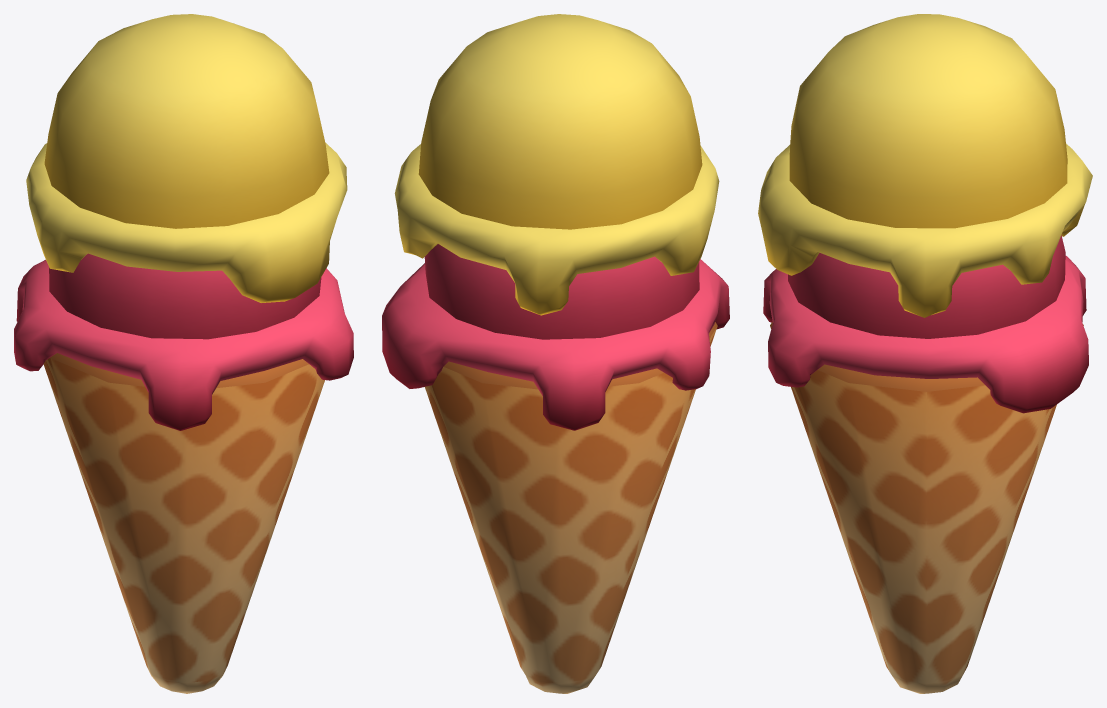
The model's file is m_IceCream14.fbx.
The picture shows the model from 3 angles, left to right: view 1: azimuth 30°, elevation 25°; view 2: azimuth 150°, elevation 25°; view 3: azimuth 270°, elevation 25°; orthographic projection.
Visible parts, largest first — view 1: m_IceCream14; view 2: m_IceCream14; view 3: m_IceCream14.
Part boxes in pixels (bbox=[...]): m_IceCream14: bbox=[14, 14, 353, 693]; m_IceCream14: bbox=[382, 14, 729, 693]; m_IceCream14: bbox=[758, 14, 1092, 693].
Bounding box in the file's own units: 9.97 × 20.71 × 9.51.
